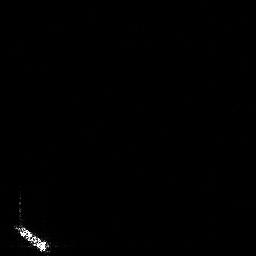ship: (11, 221, 54, 256)
